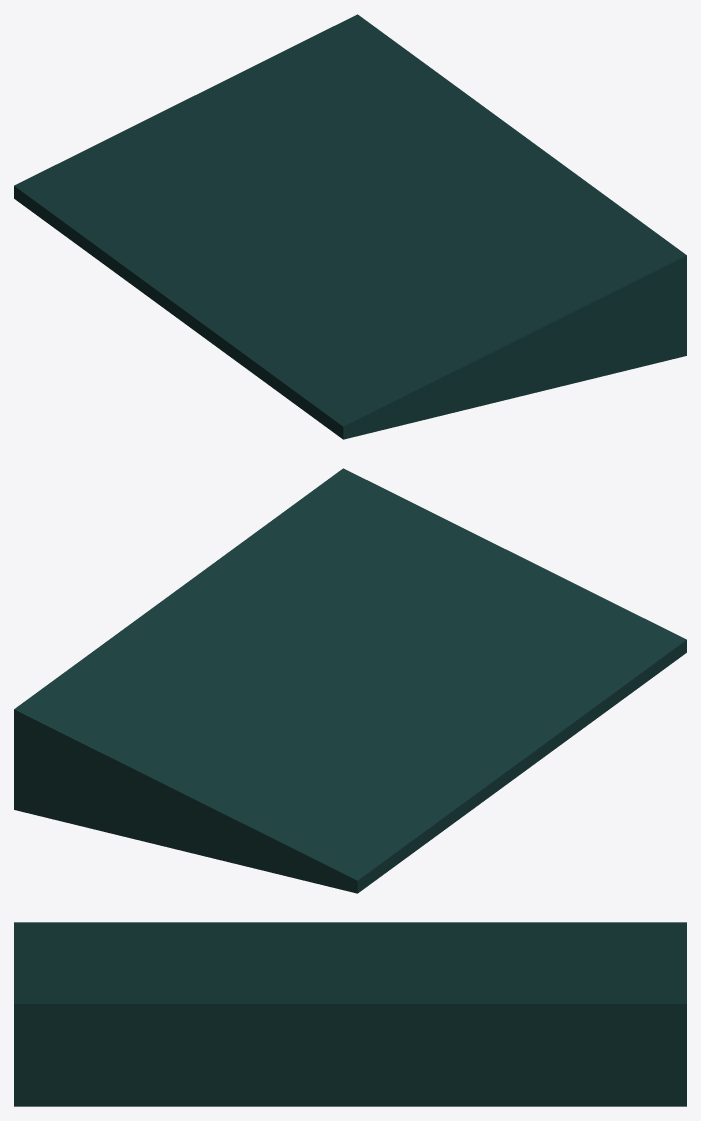
File: Stands_Small_TEMP.fbx
3 renders of one model, top to bottom at view 1: azimuth 30°, elevation 25°; view 2: azimuth 150°, elevation 25°; view 3: azimuth 270°, elevation 25°, orthographic. The views are drawn at different scales.
Parts seen in each view (by area): view 1: Stands_Small; view 2: Stands_Small; view 3: Stands_Small.
Part boxes in pixels (x1,y1,x2,y2): Stands_Small: (14,14,686,439); Stands_Small: (14,468,686,893); Stands_Small: (14,922,686,1106).
Size of the model in its own units: 601 by 168 by 997.
